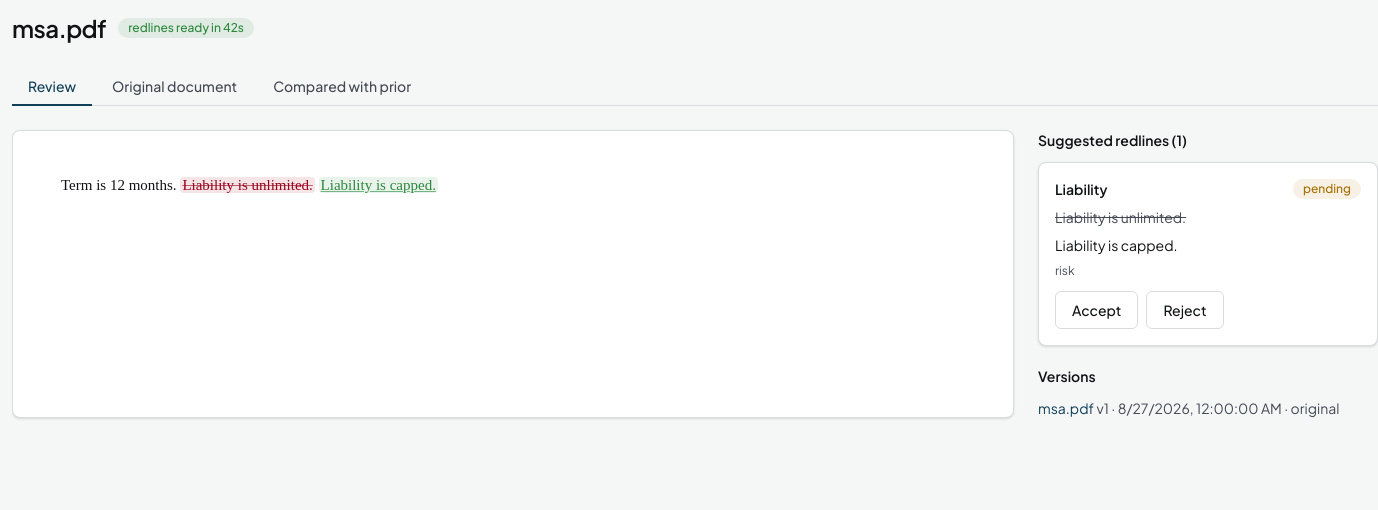
Test: clicking a staged choice again unstages it and hides the confirm bar
Click the button "Accept". click: (1097, 310)
box: [1055, 291, 1138, 329]
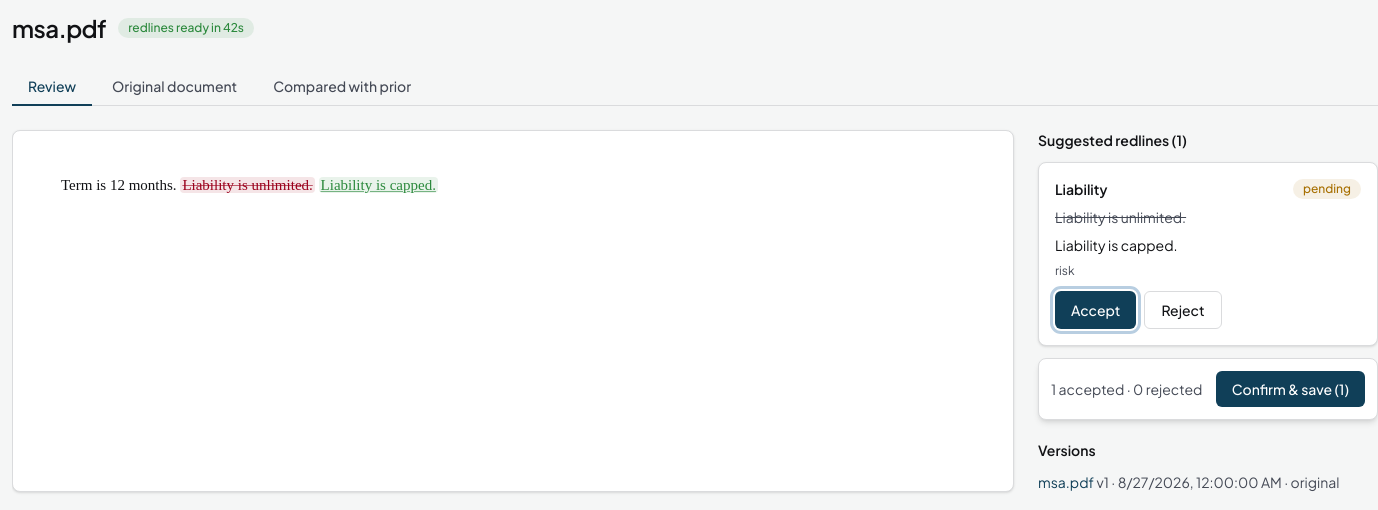
Check: the button "Confirm & save (1)" is shown, box [1216, 371, 1365, 407]
Click the button "Accept". click: (1096, 310)
box: [1055, 291, 1136, 329]
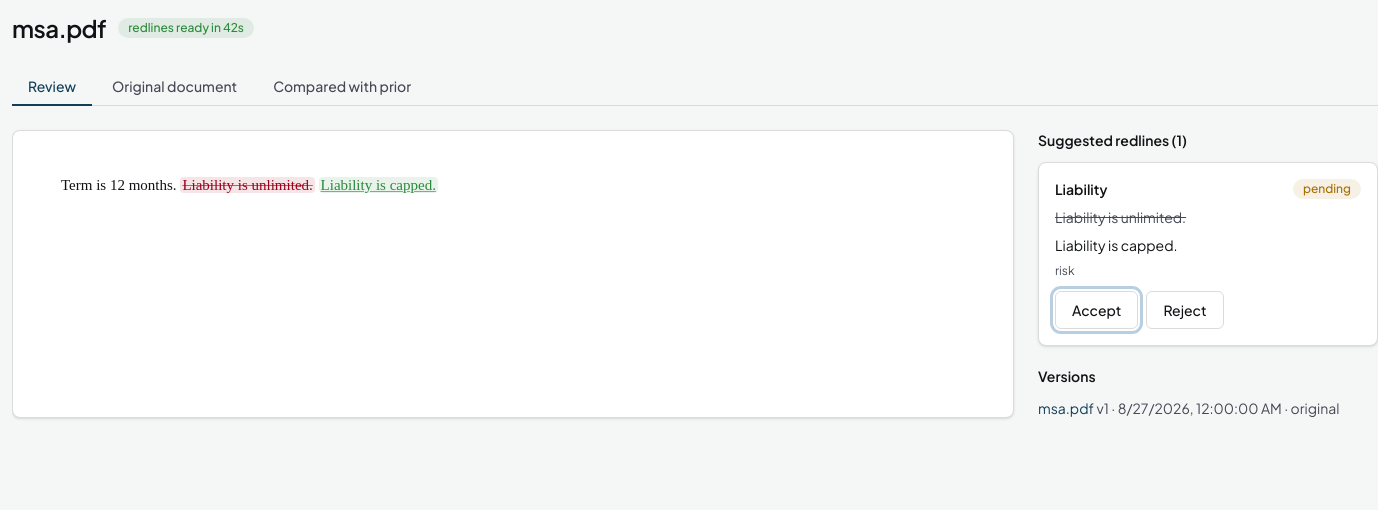
Check: the button "Confirm & save" is gone
